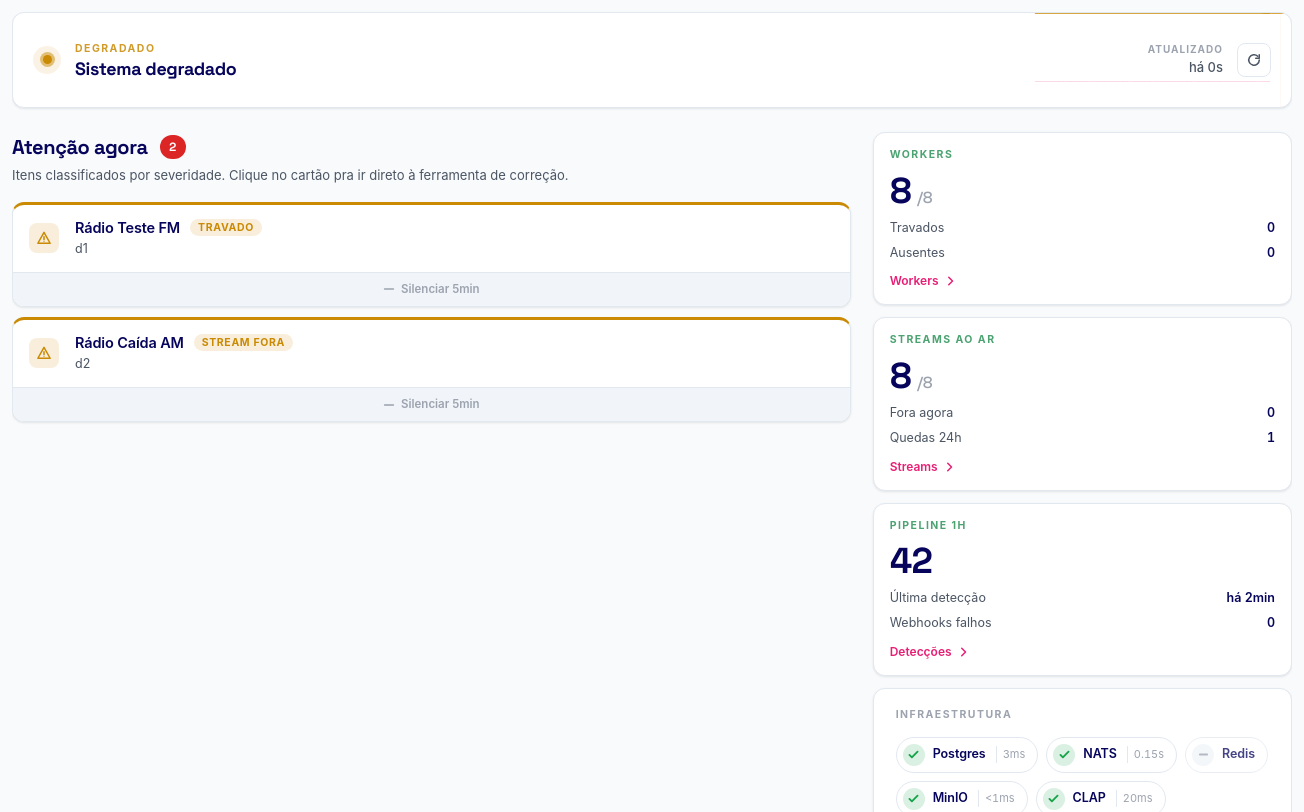
Test case: AdminOverviewPage › silenciar um alerta o esconde; silenciar todos mostra o aviso e "Reexibir" traz de volta
Expected: the text "Rádio Teste FM" is shown, left=75, top=218, right=180, bottom=236
Expected: the text "2" is shown, left=160, top=135, right=186, bottom=159
Click the 1st button "Silenciar 5min" at {"x": 431, "y": 289}, box left=13, top=272, right=850, bottom=306
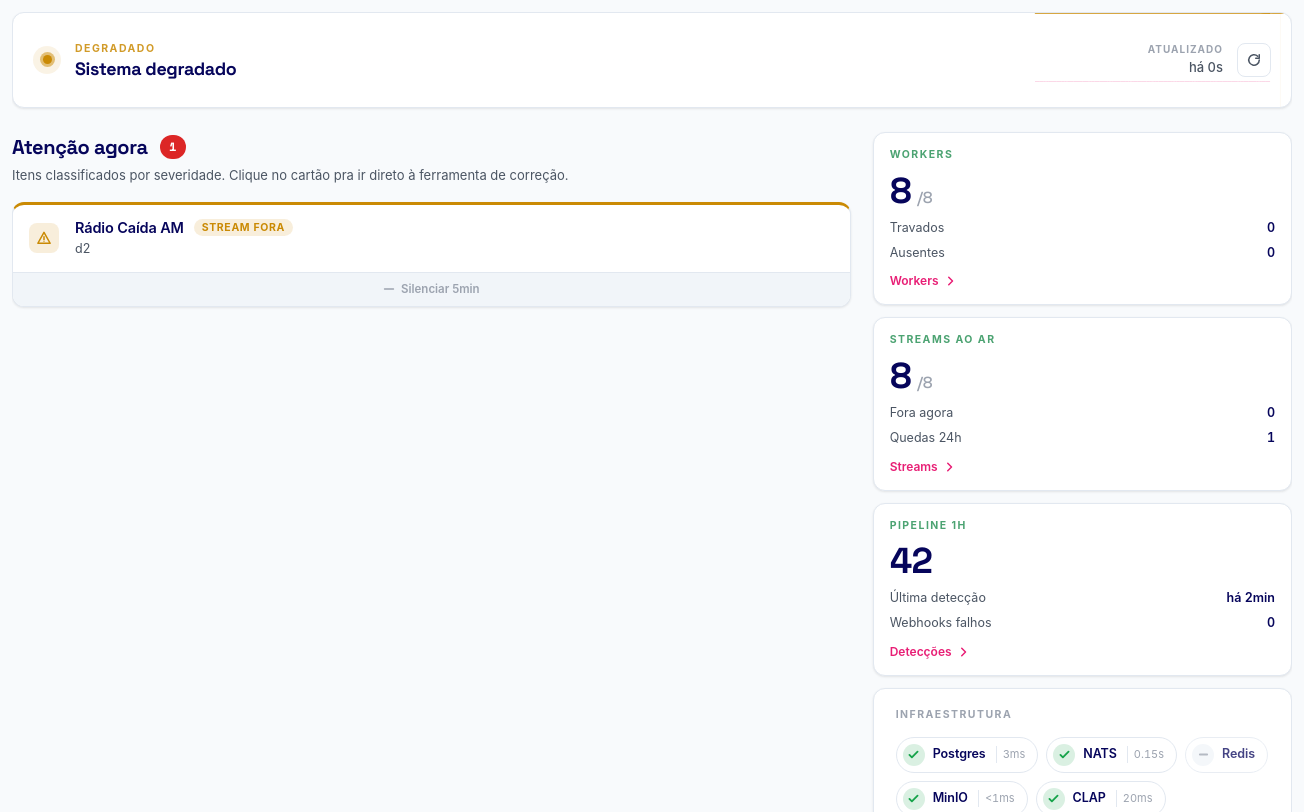
Expected: the text "Rádio Caída AM" is shown, left=75, top=218, right=184, bottom=236
Expected: the button "Rádio Teste FM" is gone
Click the button "Silenciar 5min" at {"x": 431, "y": 289}, box left=13, top=272, right=850, bottom=306
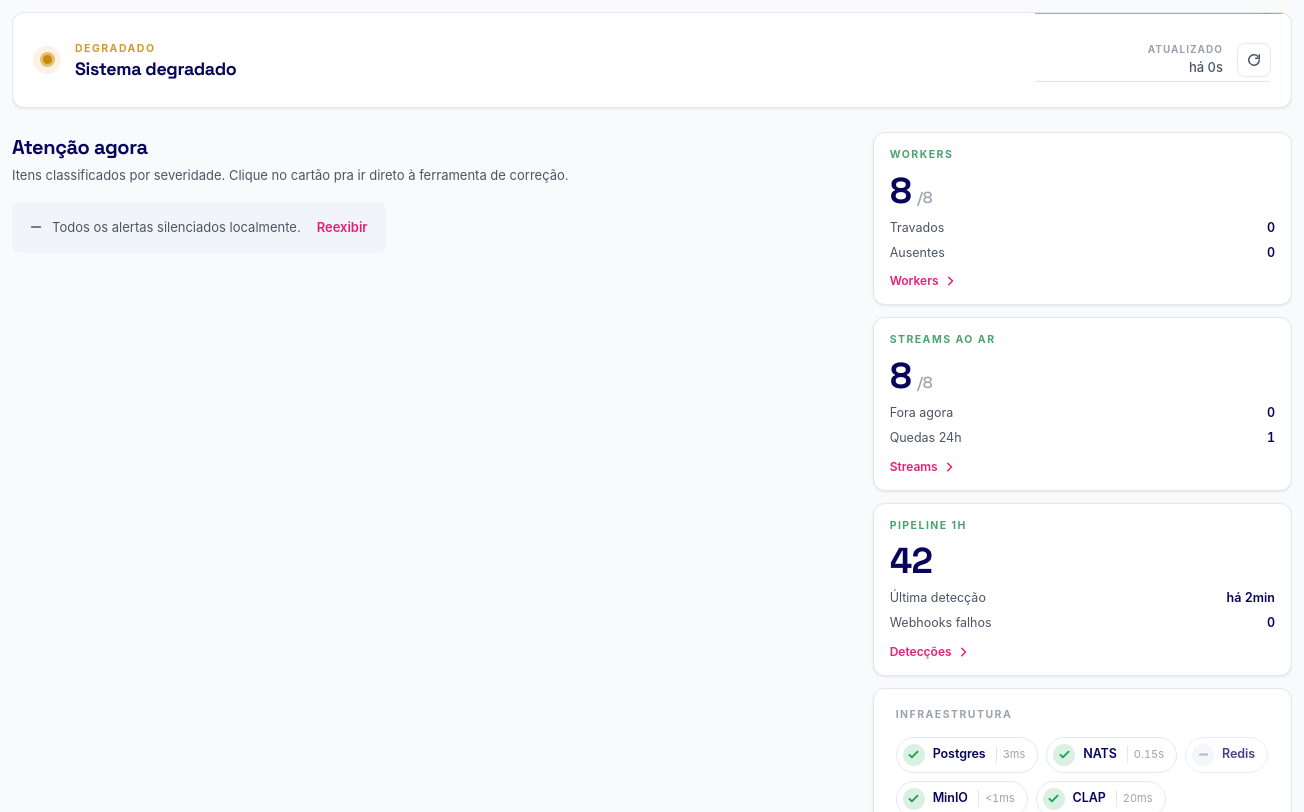
Expected: the text "Todos os alertas silenciados localmente." is shown, left=52, top=218, right=301, bottom=234
Click the button "Reexibir" at {"x": 342, "y": 227}, box left=317, top=218, right=368, bottom=237
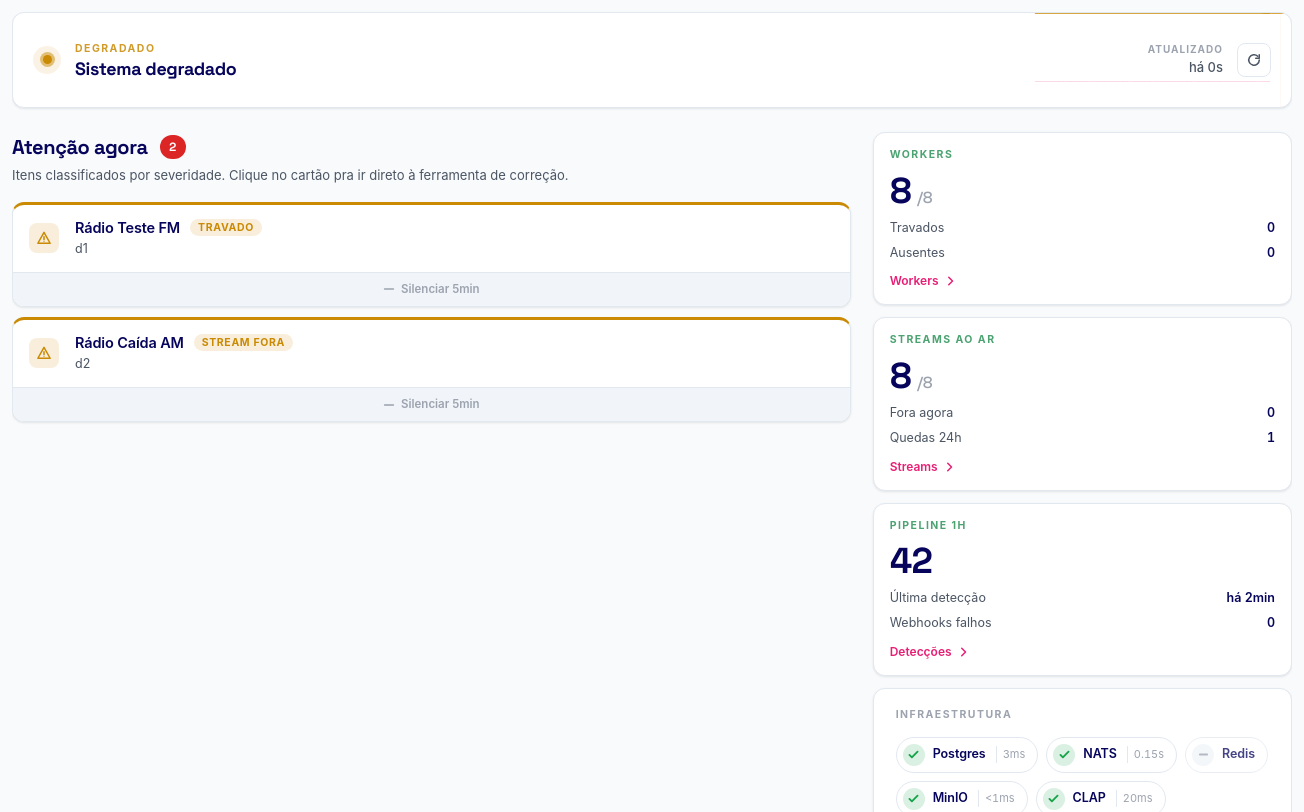
Expected: the text "Rádio Teste FM" is shown, left=75, top=218, right=180, bottom=236
Expected: the text "Rádio Caída AM" is shown, left=75, top=334, right=184, bottom=351
